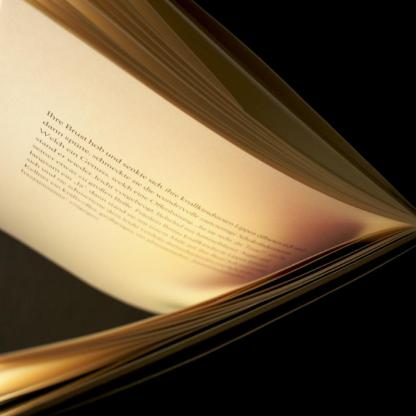book: (0, 0, 416, 316)
